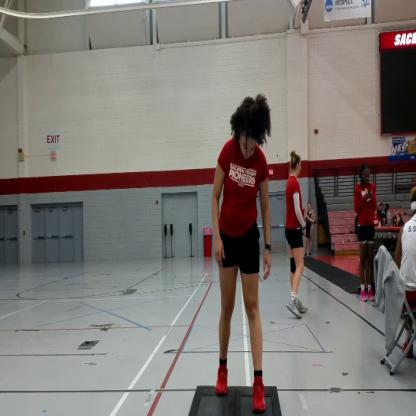lateral_flexion_left: (211, 91, 277, 416)
stance_width_normal: (210, 143, 278, 416)
